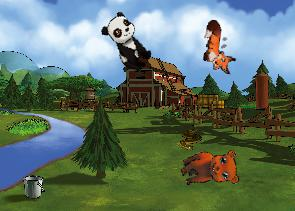bear: (176, 142, 244, 199)
fox: (199, 19, 240, 75)
panda: (97, 9, 158, 76)
